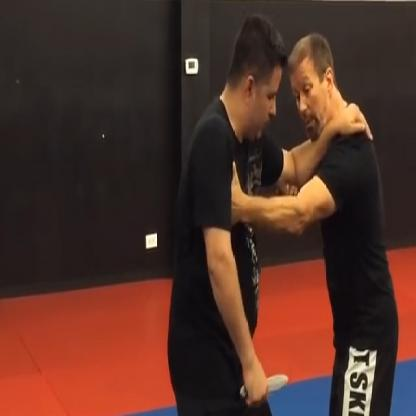knife: (238, 364, 290, 407)
